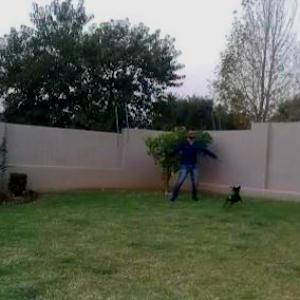land: (152, 118, 222, 212)
